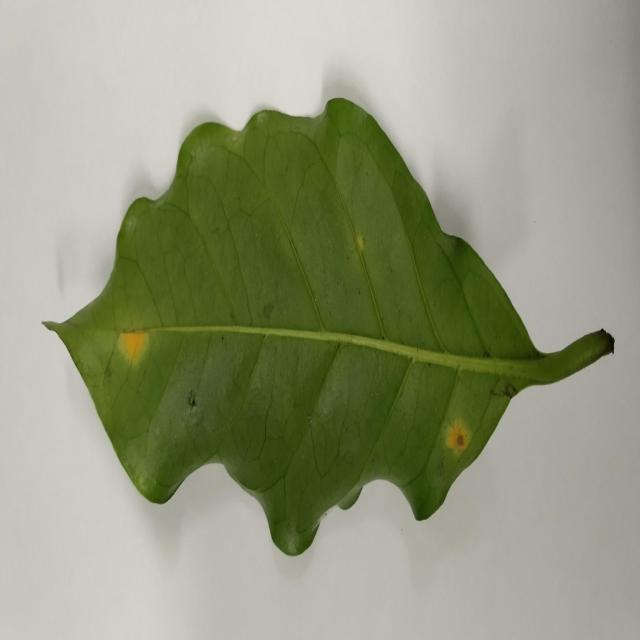rust: (118, 329, 150, 367), (444, 417, 472, 458)
